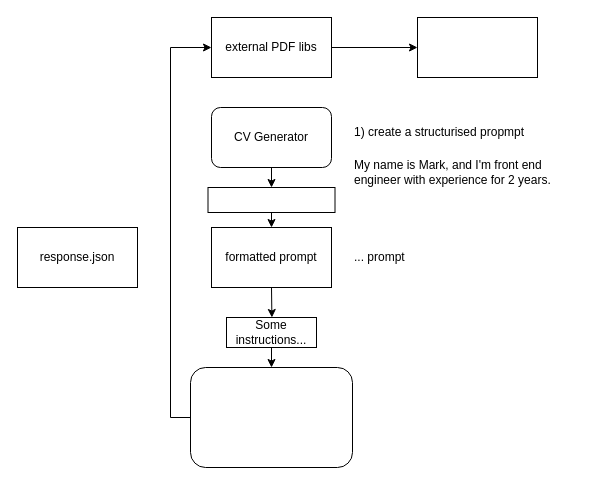
This 600x485 diagram has some shape labels left out. The shapes that lost their labels are listed below. From the top down, each one's centre as x and y in pixels, then its label:
(x=477, y=47): CV
(x=271, y=199): prompt merging logic
(x=271, y=417): ChatGPT 3.5
